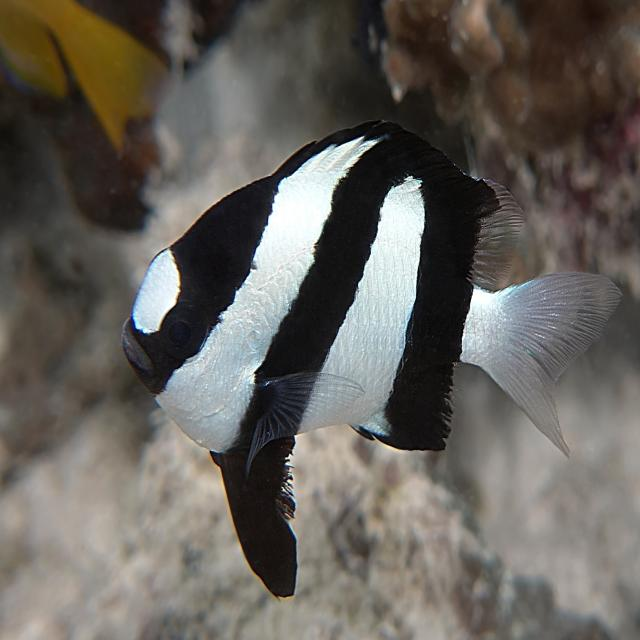ThreeStripedDamselfish: (119, 122, 624, 600)
